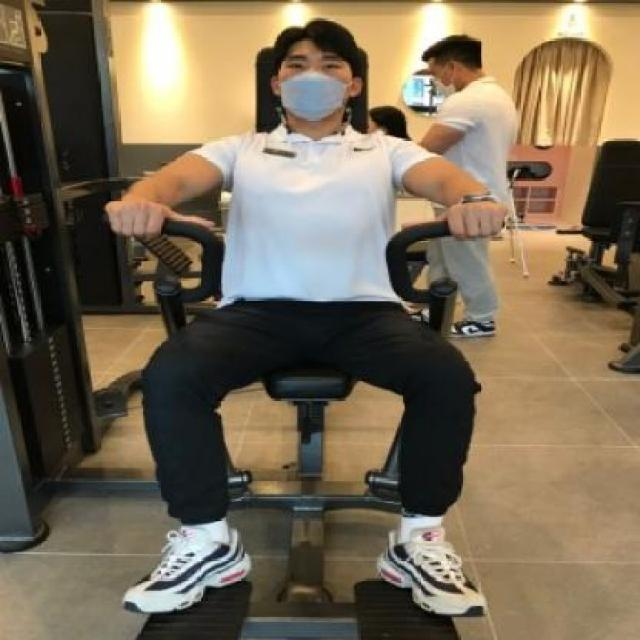Chest Press machine: (3, 0, 519, 640)
